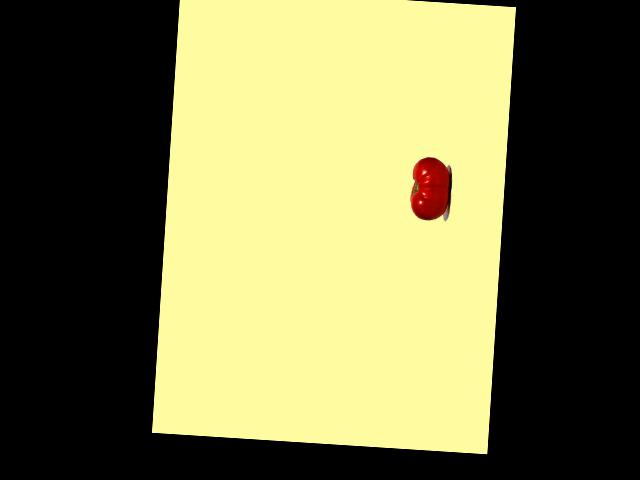tomato: (409, 155, 451, 221)
